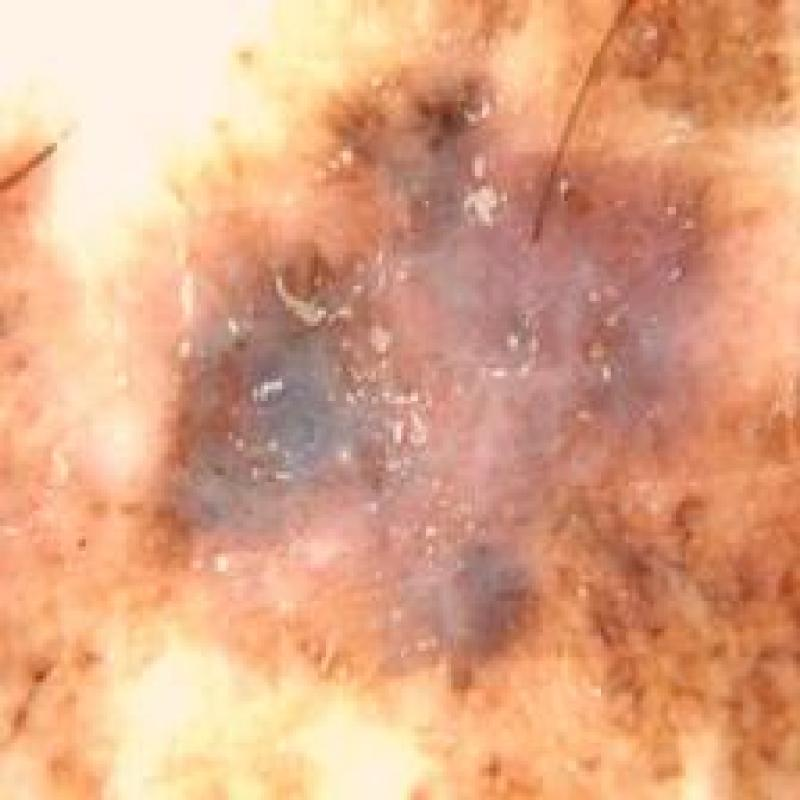malignant: (122, 46, 800, 800)
